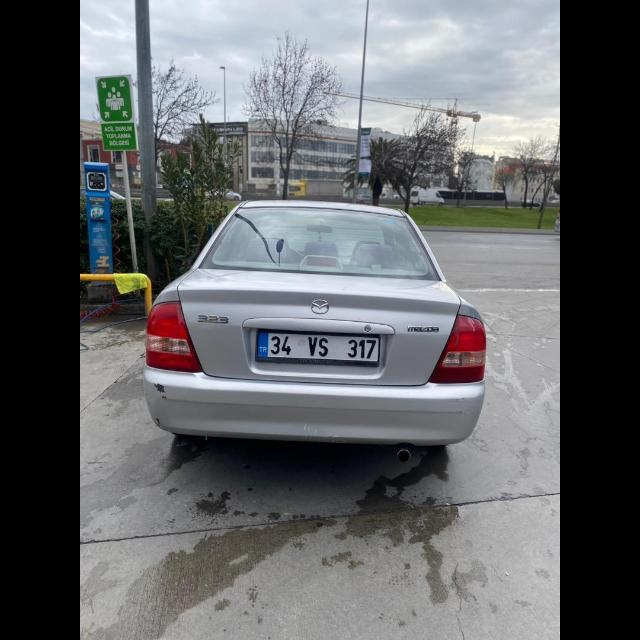Plaka: (257, 334, 381, 362)
